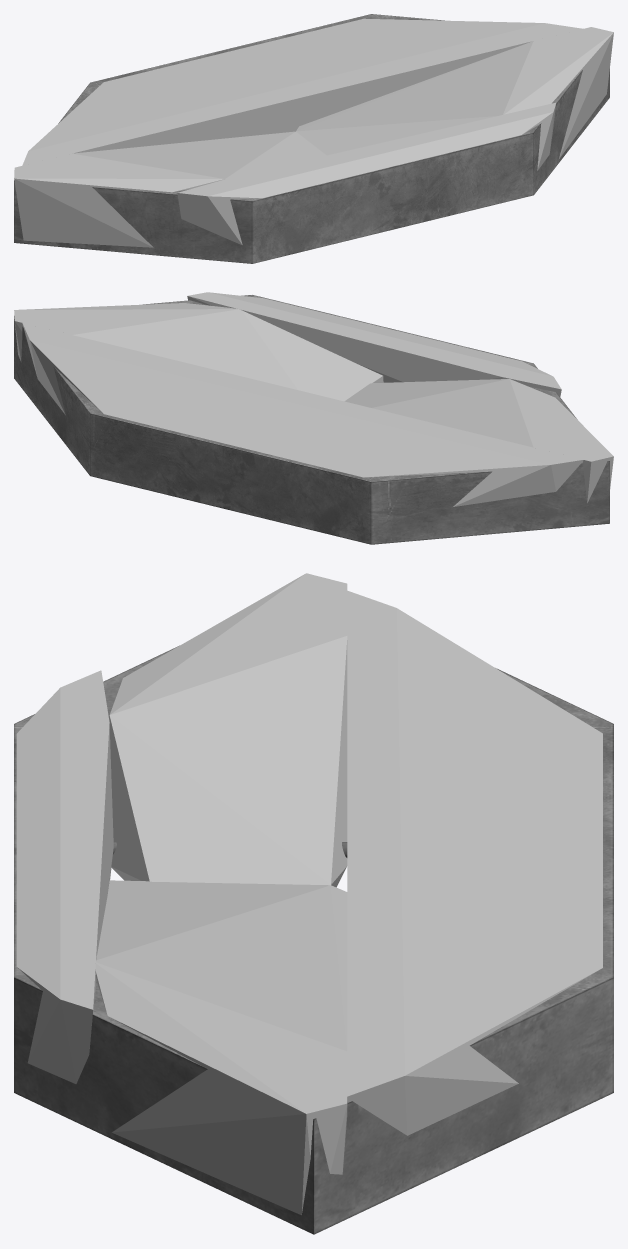
3 views of the same model, one above another, from view 1: azimuth 30°, elevation 25°; view 2: azimuth 150°, elevation 25°; view 3: azimuth 270°, elevation 25° (orthographic). The views are drawn at different scales.
Visible parts, largest first — view 1: SM_28_ConvexHulls, SM_28; view 2: SM_28_ConvexHulls, SM_28; view 3: SM_28_ConvexHulls, SM_28.
Boxes of the visible parts, <box> form: SM_28_ConvexHulls: <box>14,18,613,247</box>; SM_28: <box>14,14,609,263</box>; SM_28_ConvexHulls: <box>14,292,613,506</box>; SM_28: <box>14,295,609,544</box>; SM_28_ConvexHulls: <box>16,573,602,1215</box>; SM_28: <box>14,645,613,1234</box>.
Bounding box in the file's own units: 217 × 102 × 23.68.
Materials: 2 (1 with a texture image).
